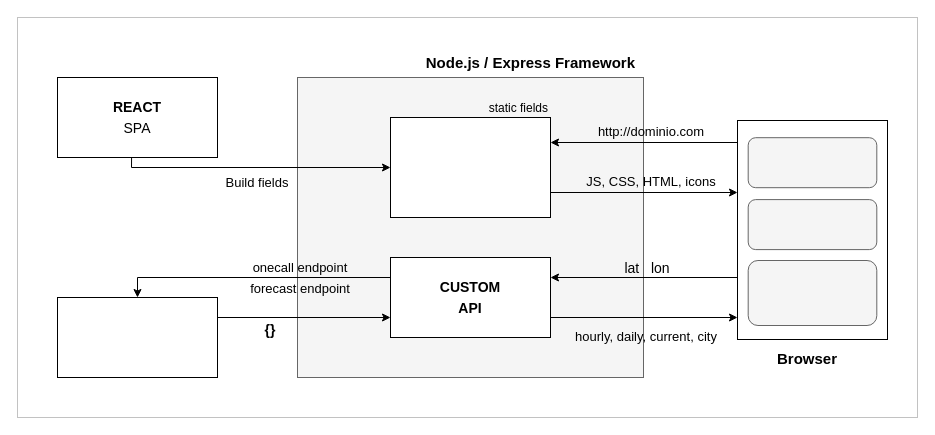
This 935x435 diagram has some shape labels left out. The centre of each missing label's shape, as x and y in pixels:
HTML CSS JS Icons: the point at 470,167
OpeWeatherMap API: the point at 137,337
